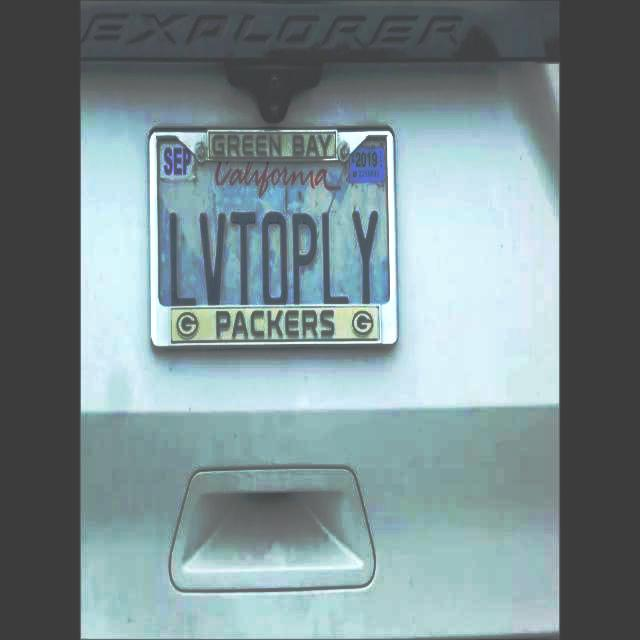license_plate: (145, 125, 407, 358)
